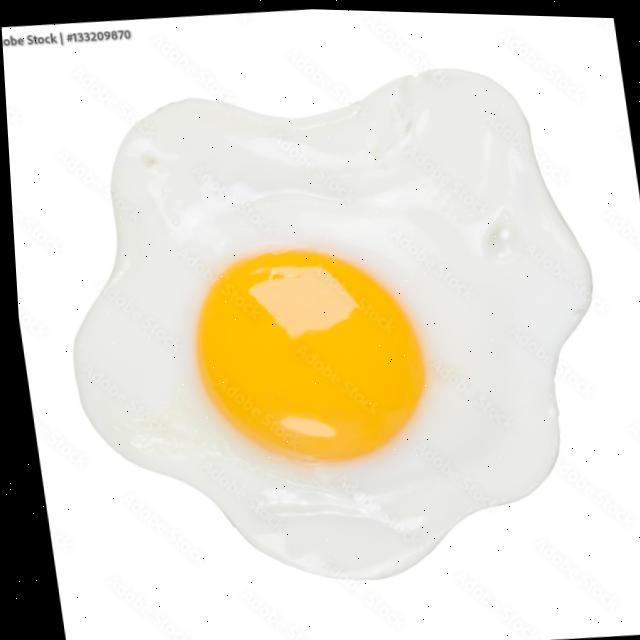Egg: (68, 67, 587, 577)
